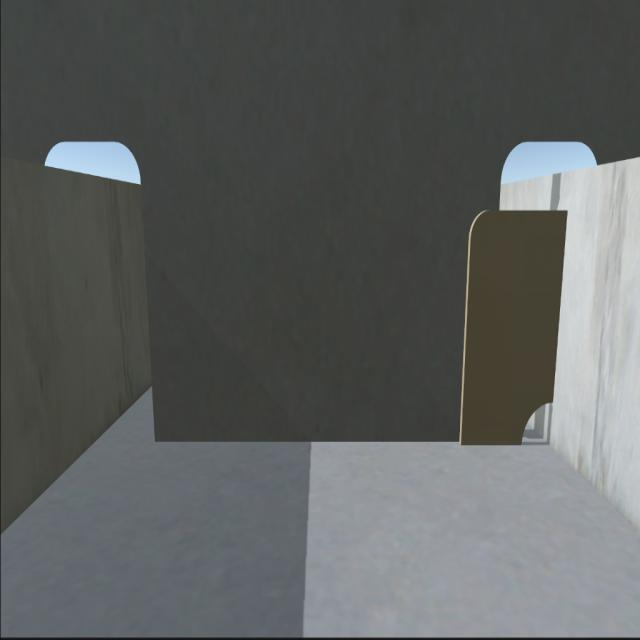fillet_hole: (514, 396, 551, 444)
fillet_yong_jeop_jang: (153, 436, 518, 451)
longi_yong_jeop_jang: (558, 208, 570, 399)
plate_CP05: (466, 210, 566, 448)
